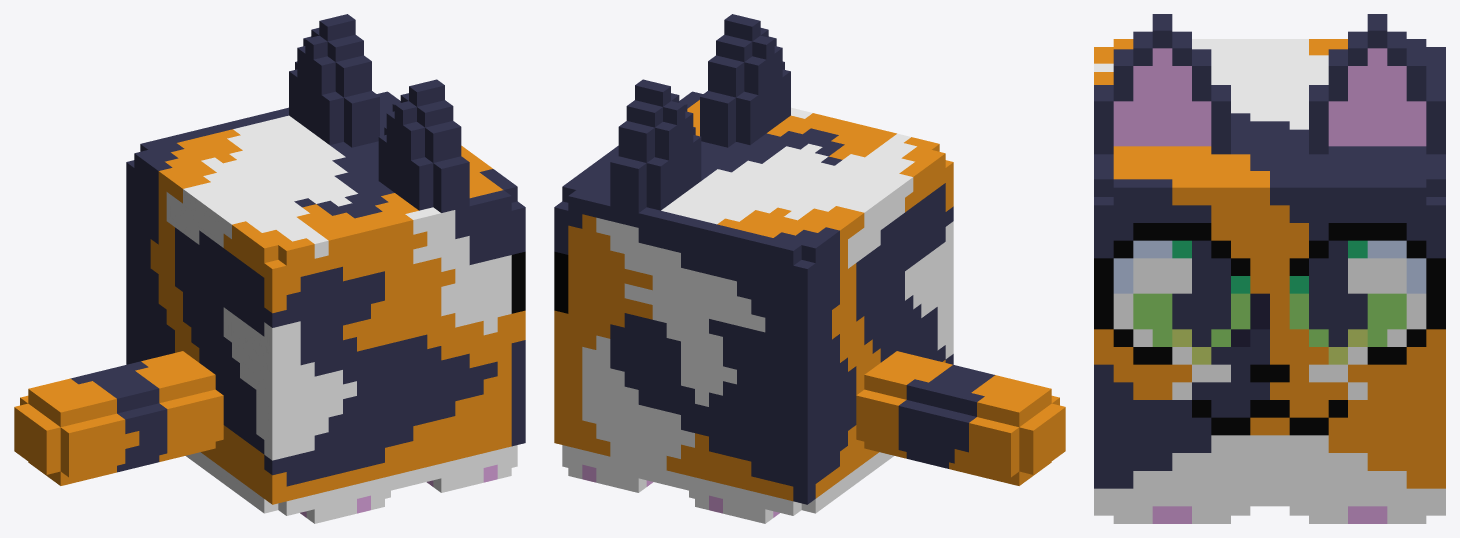
File: calico.obj
3 views of the same model, side by side, from view 1: azimuth 30°, elevation 25°; view 2: azimuth 150°, elevation 25°; view 3: azimuth 270°, elevation 25° (orthographic). The views are drawn at different scales.
Bounding box in the file's own units: 3 × 2.6 × 1.8.
1 material, 1 textured.
